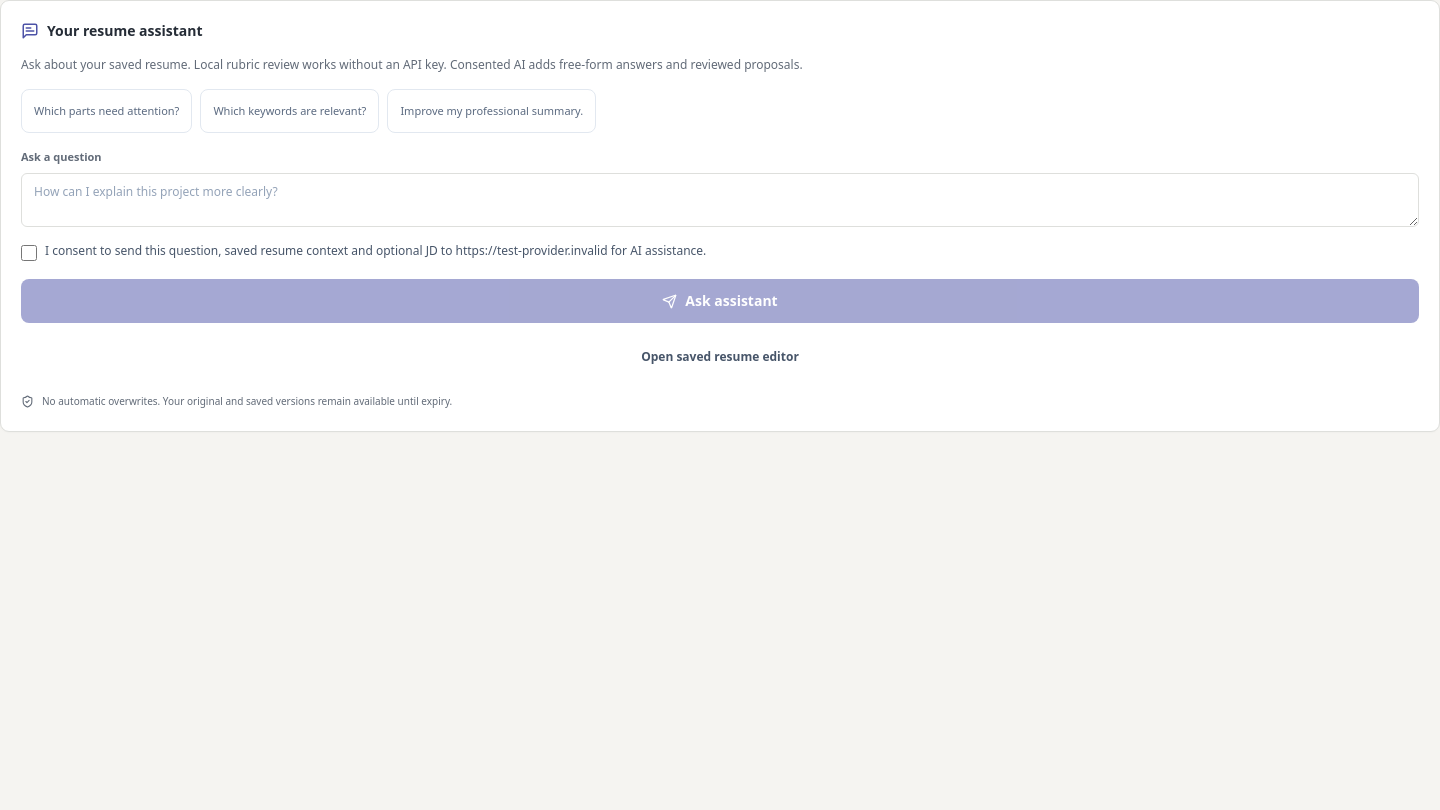
assistant review safeguards › rejects without modifying the server draft
This screenshot has width=1440, height=810.
Type "Improve my summary" into the text box labelled "Ask a question" at {"x": 720, "y": 200}, box [21, 173, 1419, 227]
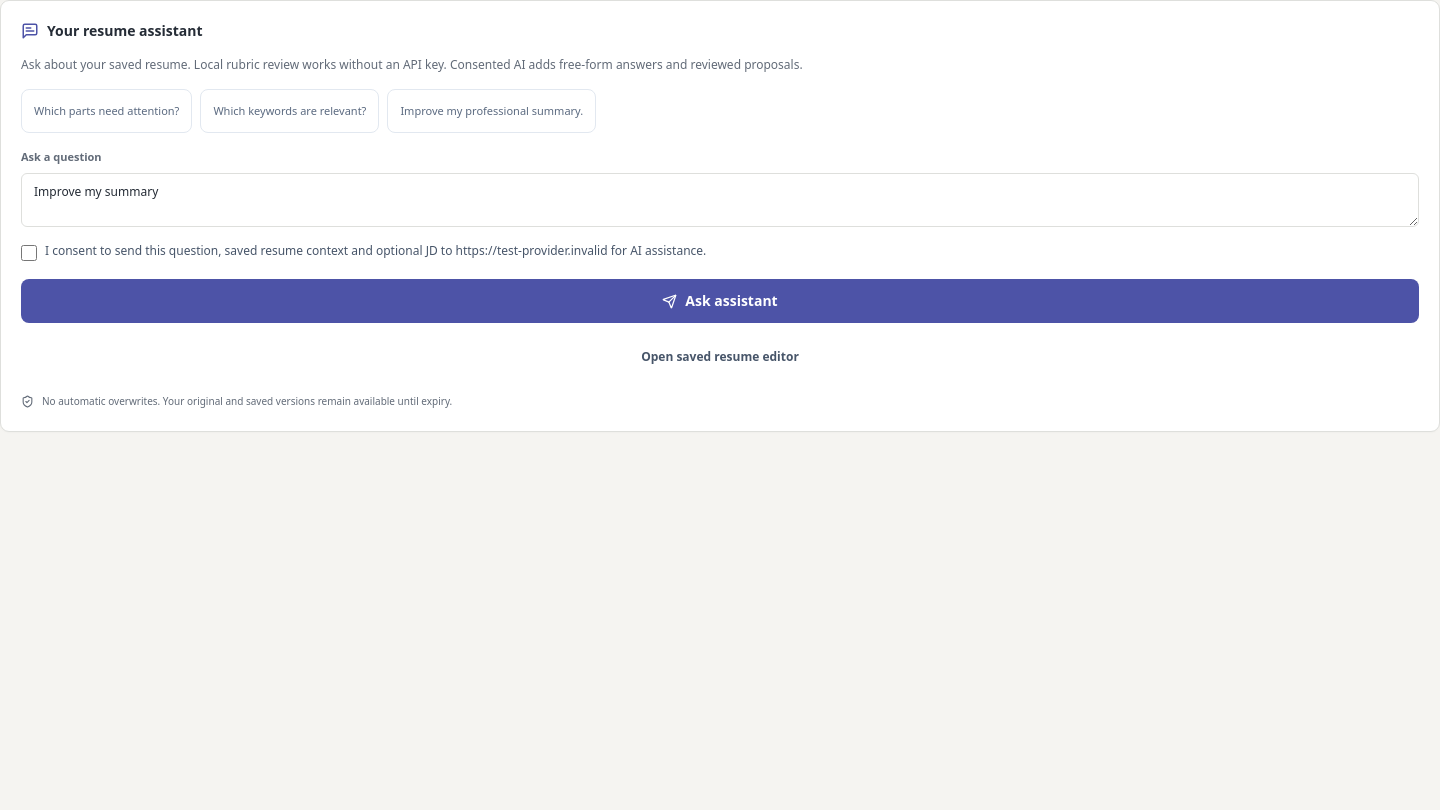
Click the button "Ask assistant" at {"x": 720, "y": 301}, box [21, 279, 1419, 323]
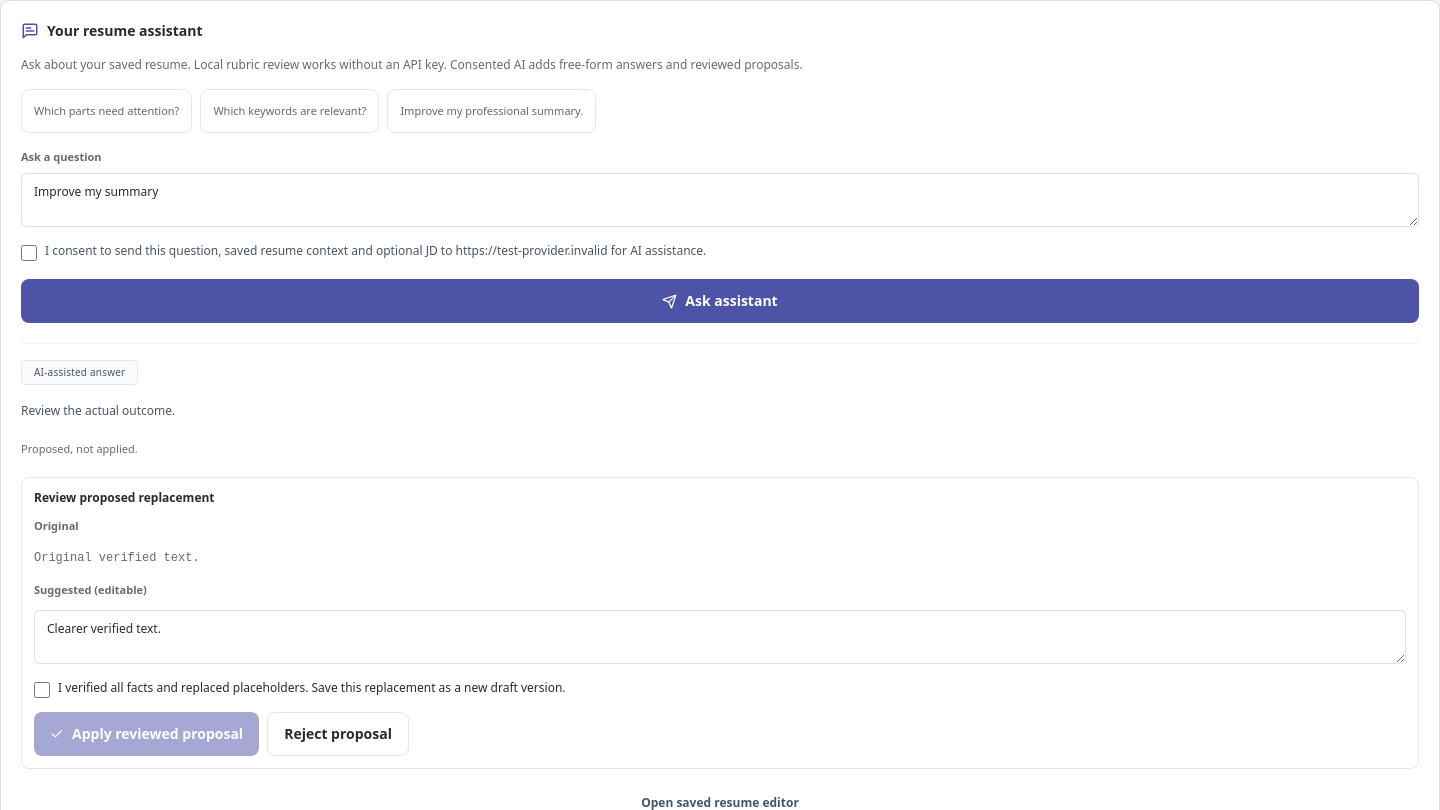
Expected: the heading "Review proposed replacement" is shown, [34, 489, 215, 506]
Click the button "Reject proposal" at {"x": 338, "y": 734}, box [267, 712, 409, 756]
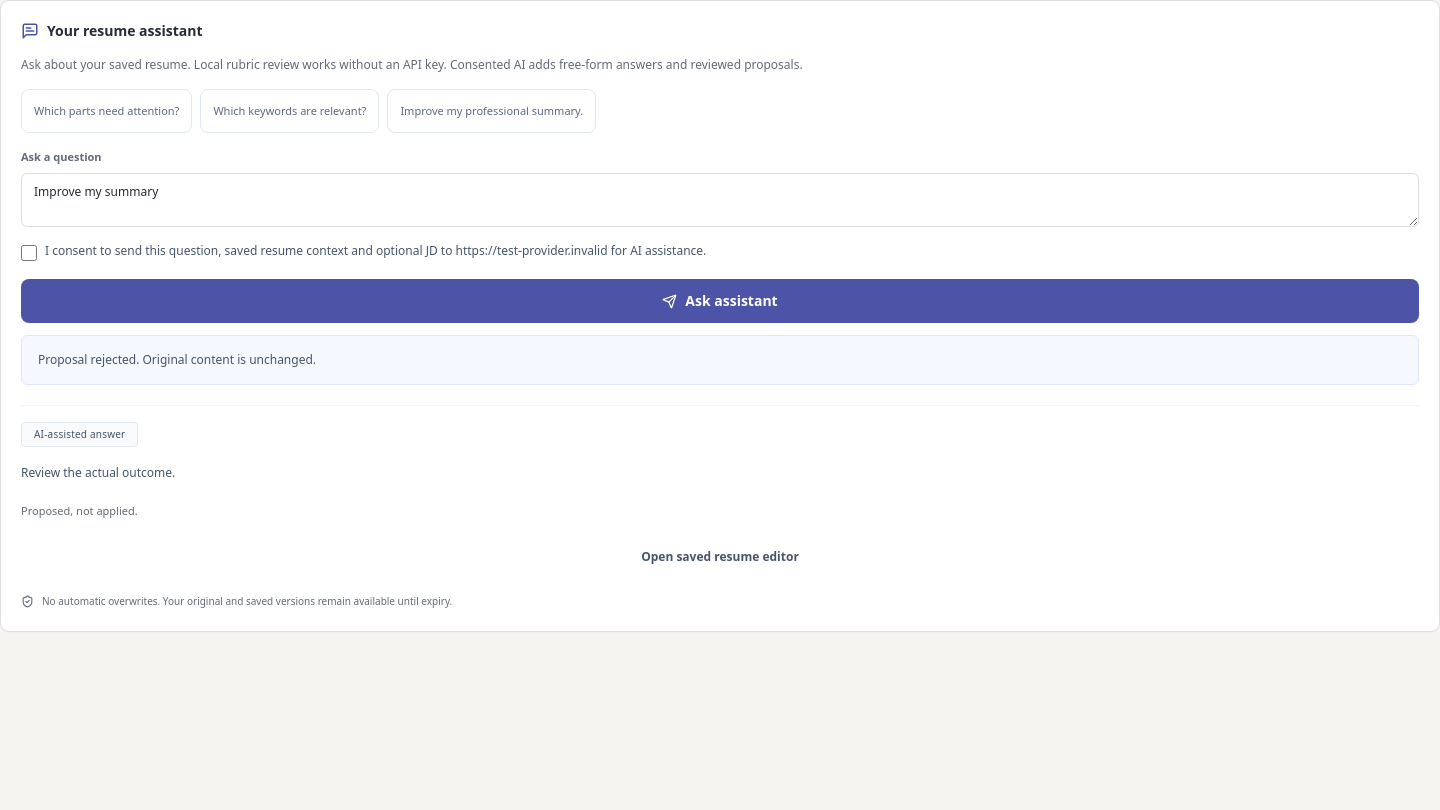
Expected: the heading "Review proposed replacement" is gone
Expected: the message shows "Original content is unchanged", [38, 351, 316, 368]
